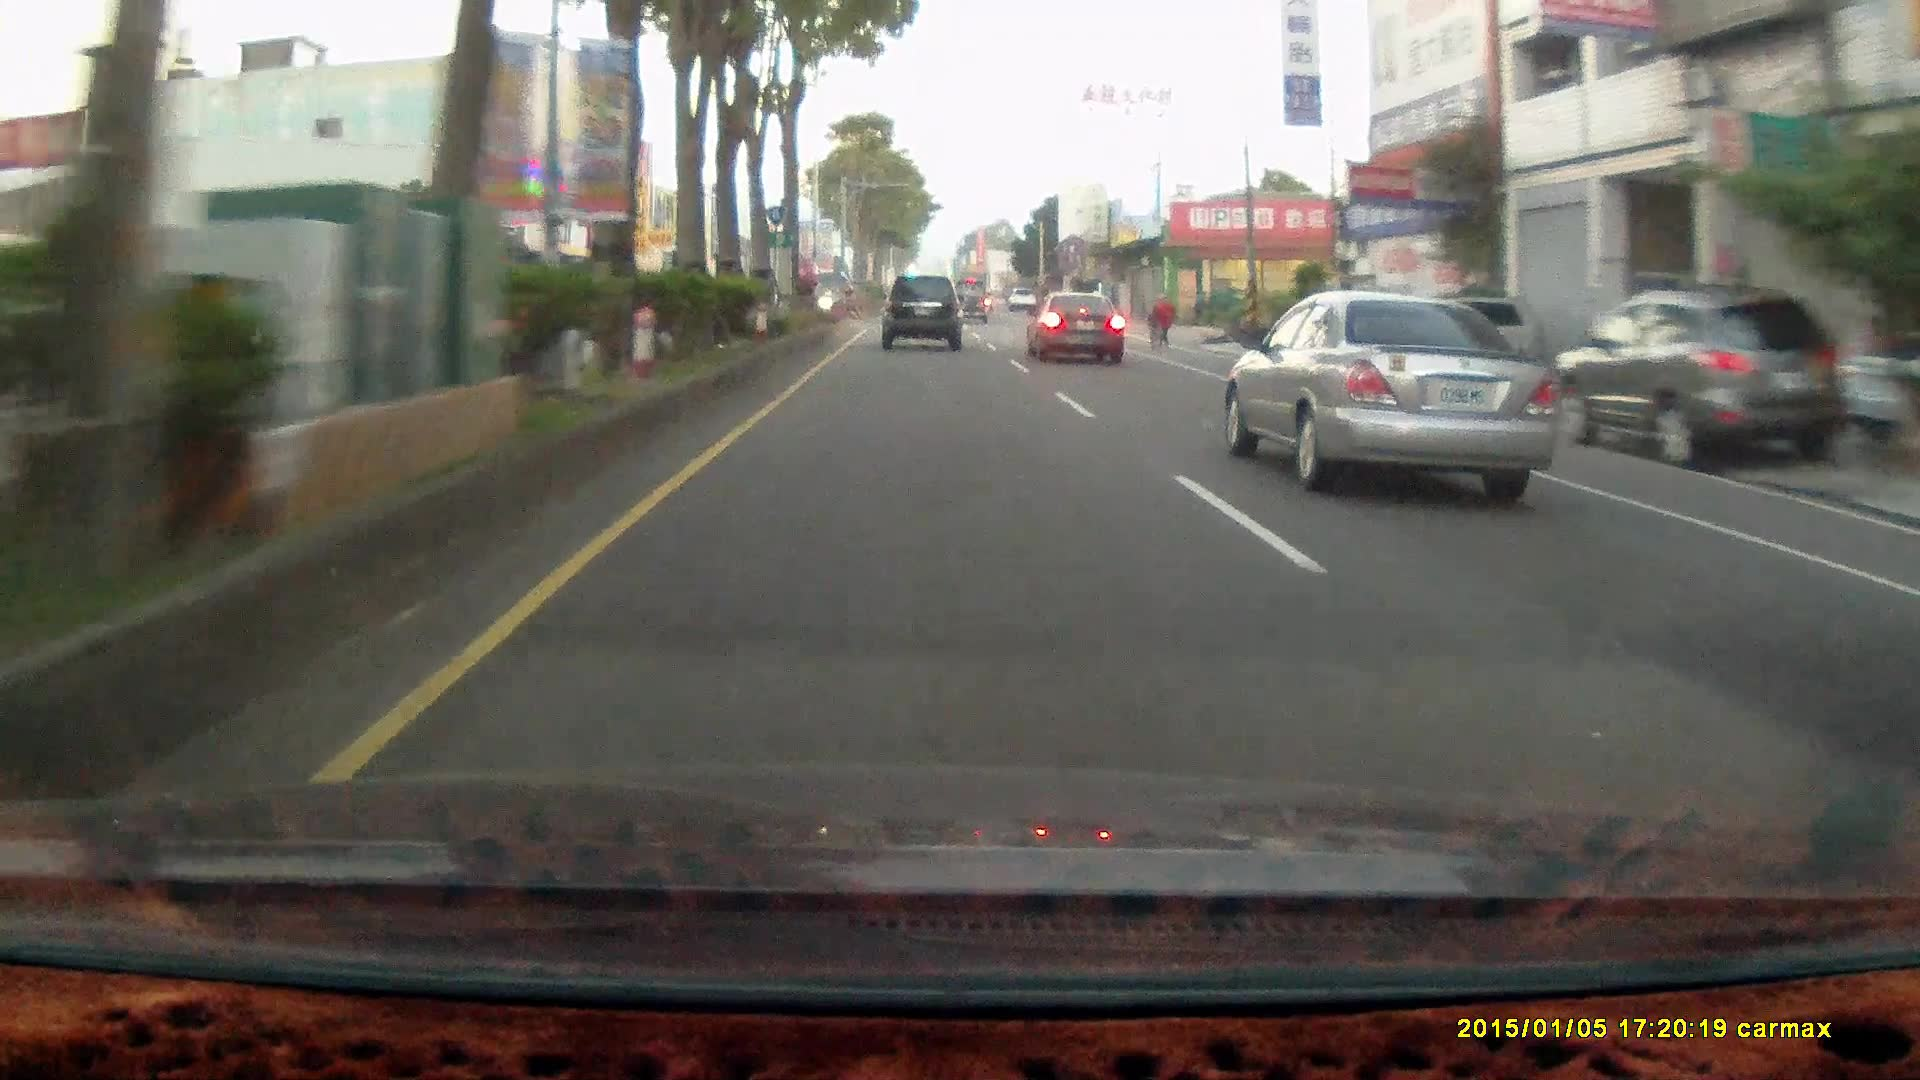pedestrian: (1155, 291, 1176, 344), (1155, 298, 1175, 349)
vehicle: (1227, 295, 1555, 488), (1550, 290, 1854, 472), (1549, 289, 1844, 470), (1360, 294, 1543, 385), (1834, 305, 1920, 445), (1024, 297, 1129, 373), (1025, 289, 1123, 365), (880, 279, 968, 354), (880, 277, 961, 352), (952, 283, 991, 329)
